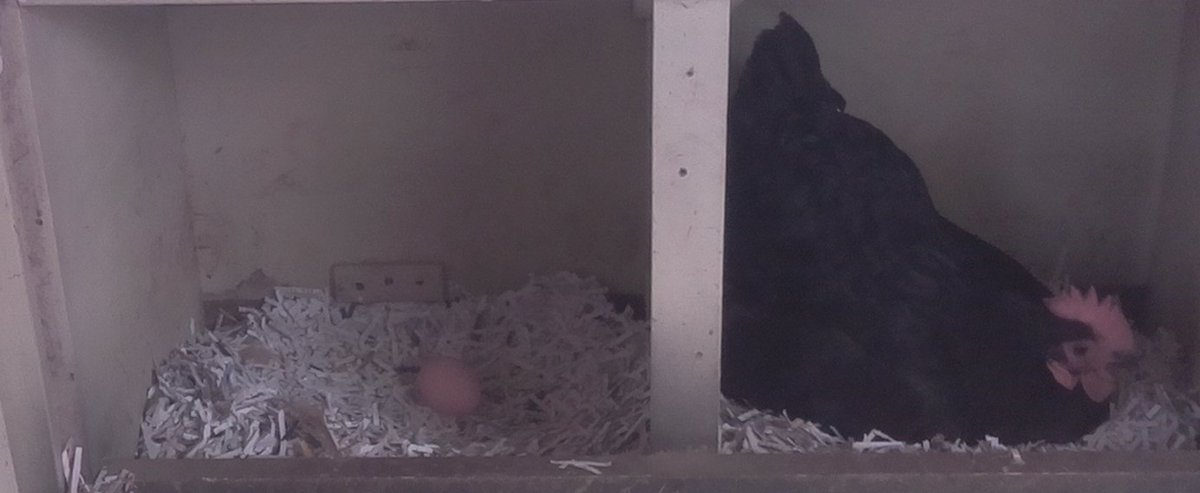egg: (409, 354, 485, 421)
hen: (733, 26, 1141, 449)
